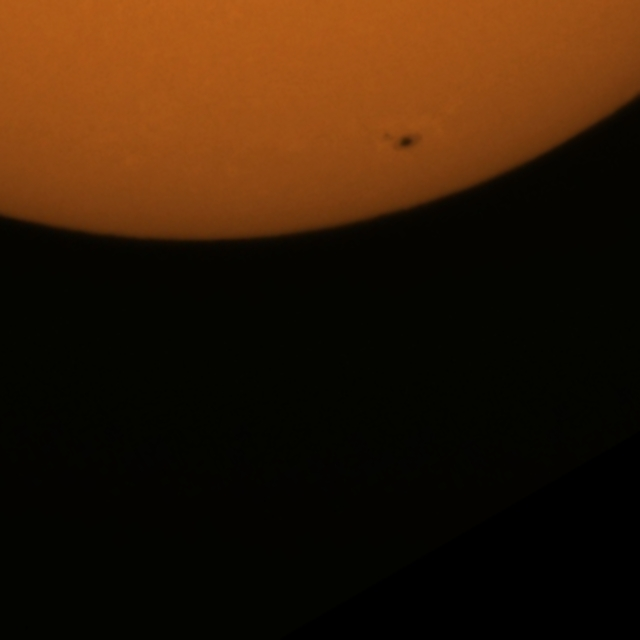sunspot: (379, 129, 421, 154)
